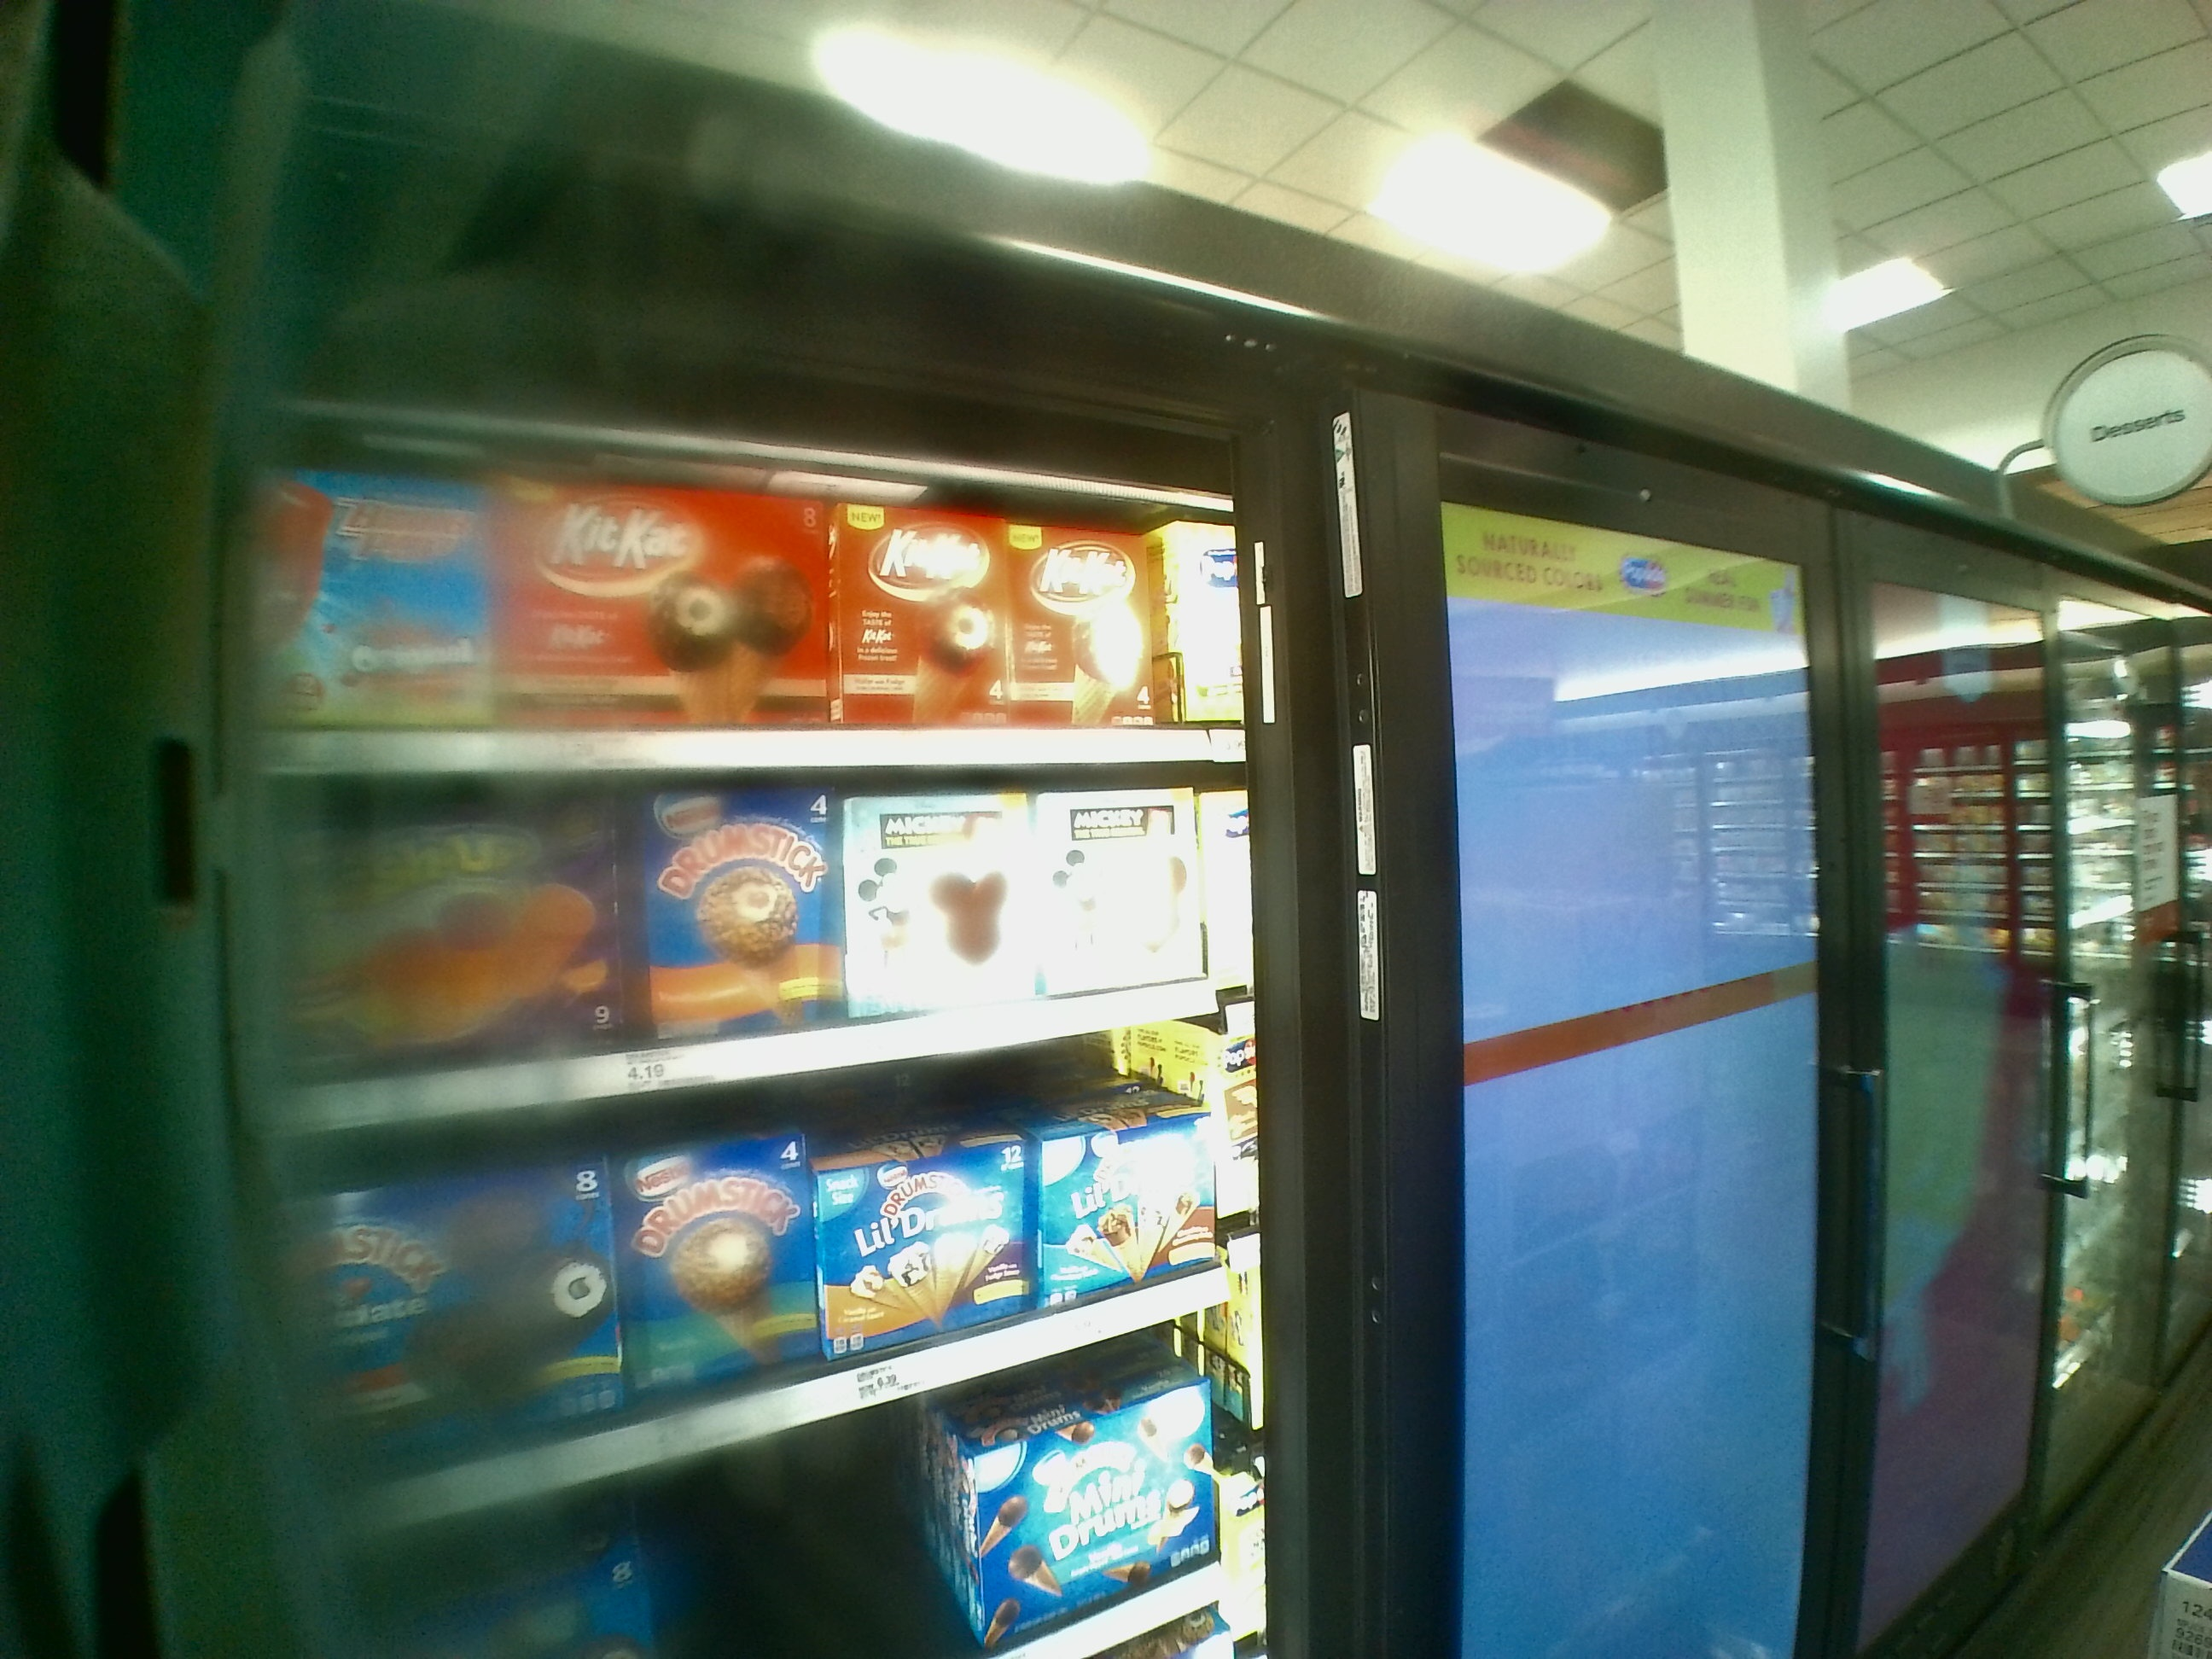shelf: (239, 413, 1254, 763), (305, 1077, 1277, 1443), (266, 772, 1247, 1066)
